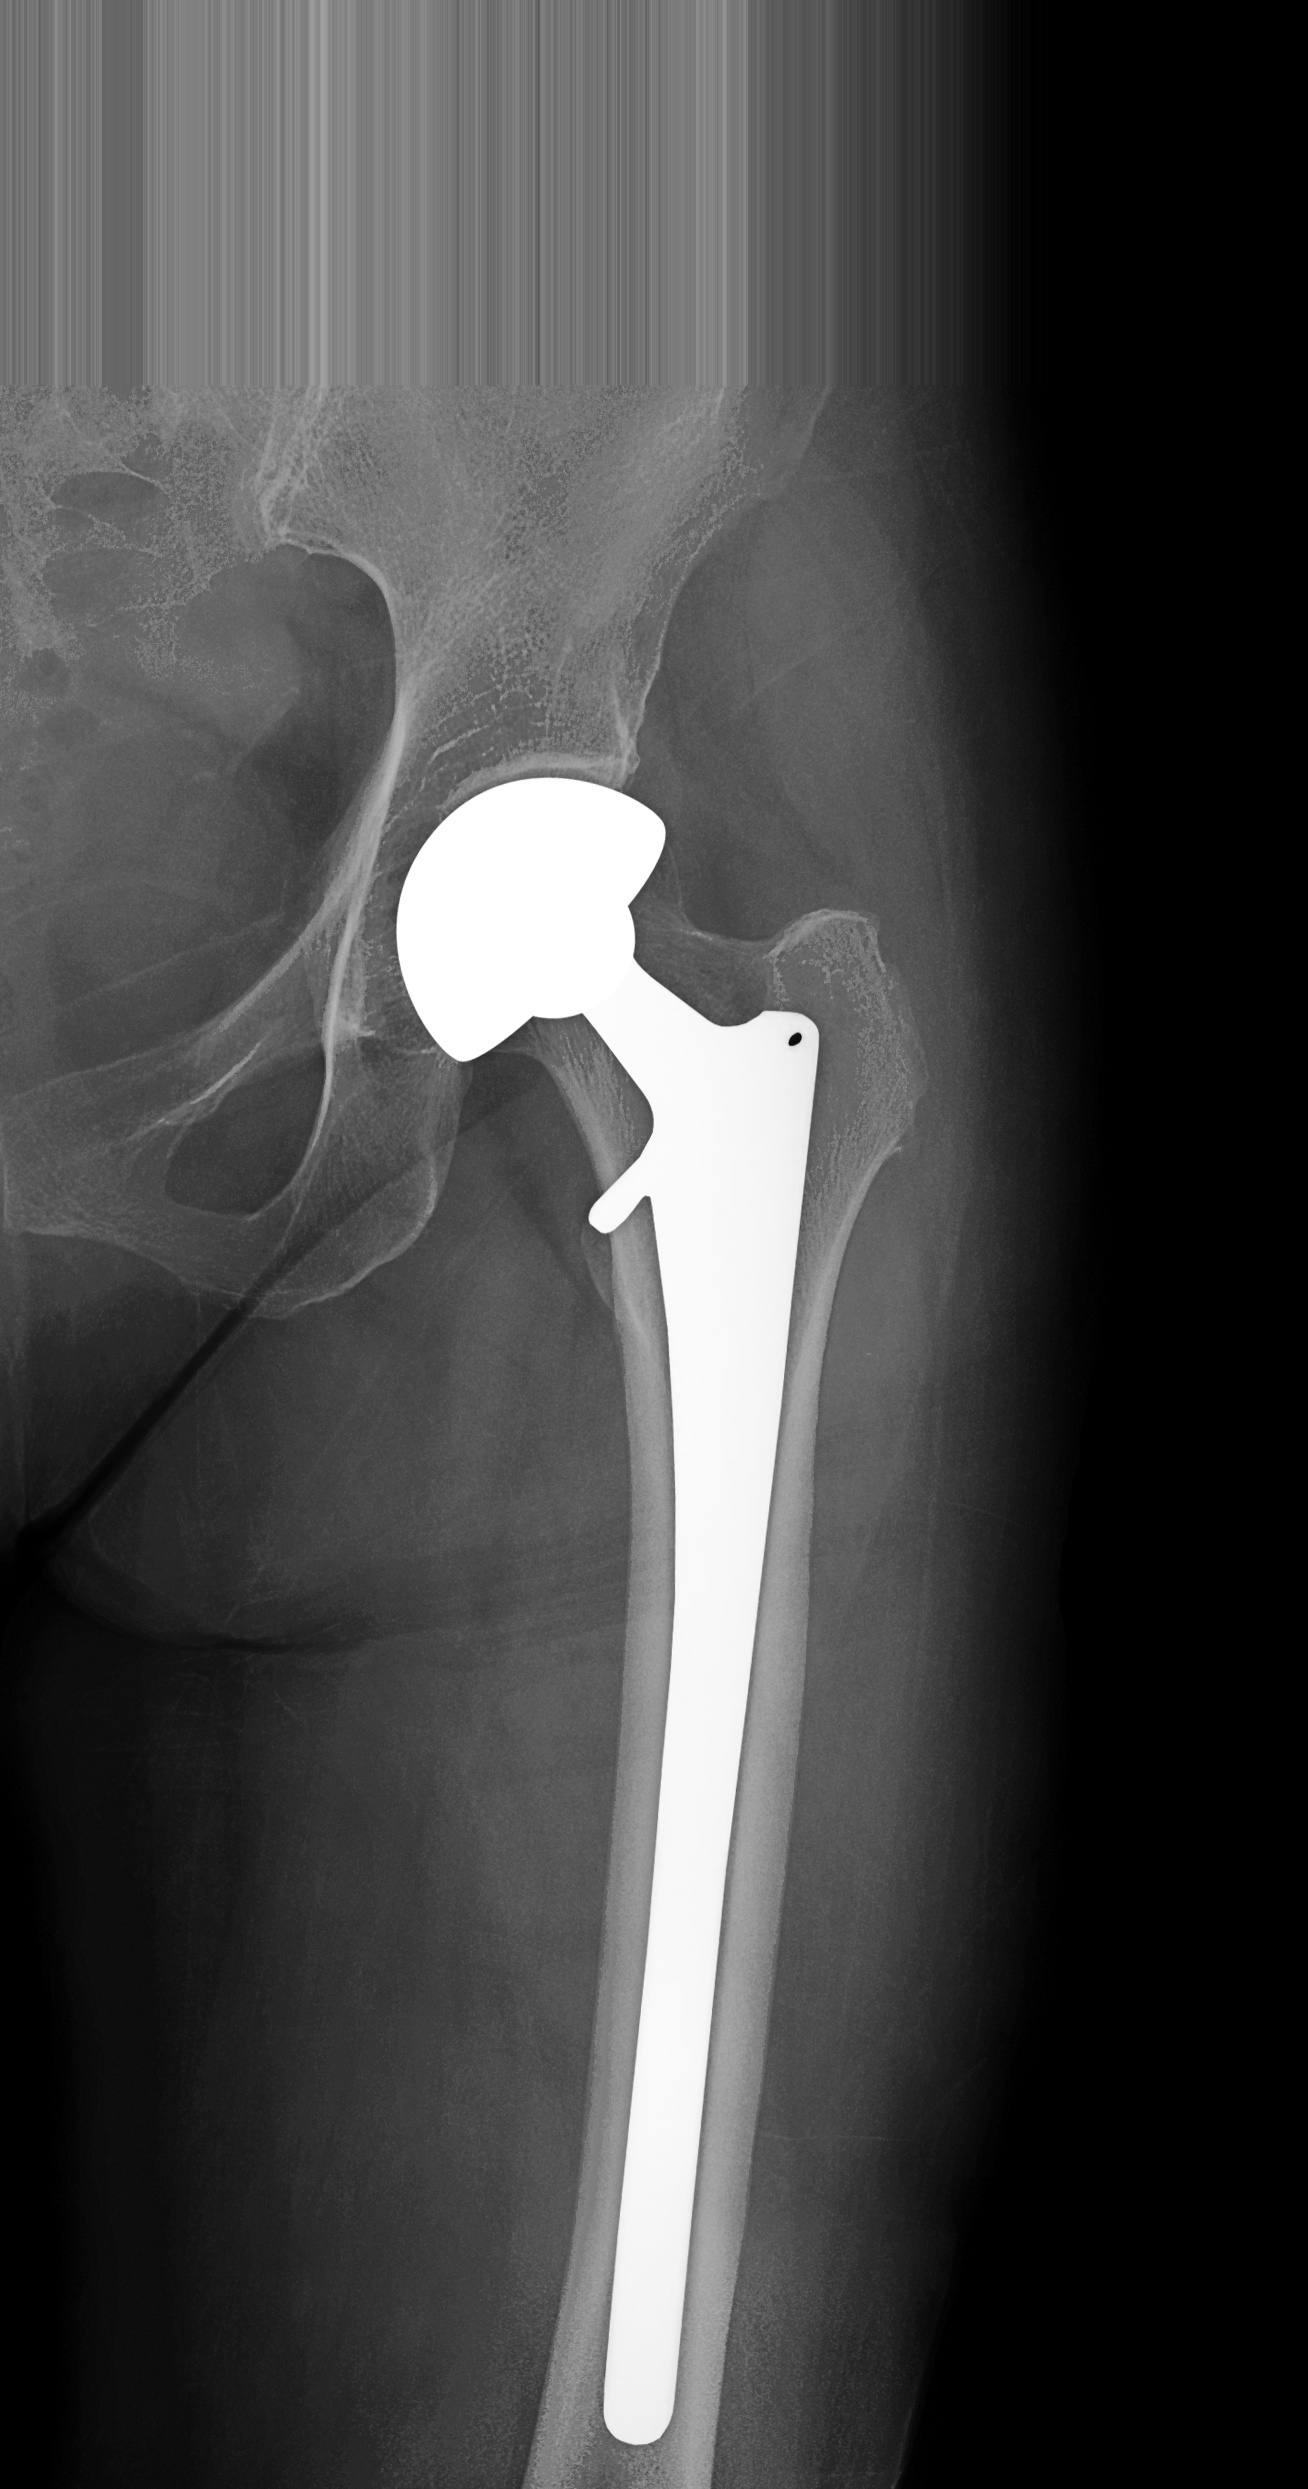Hip - Bias - Zimmer: (383, 757, 864, 2482)
